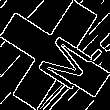M_NW: (21, 22, 89, 88)
